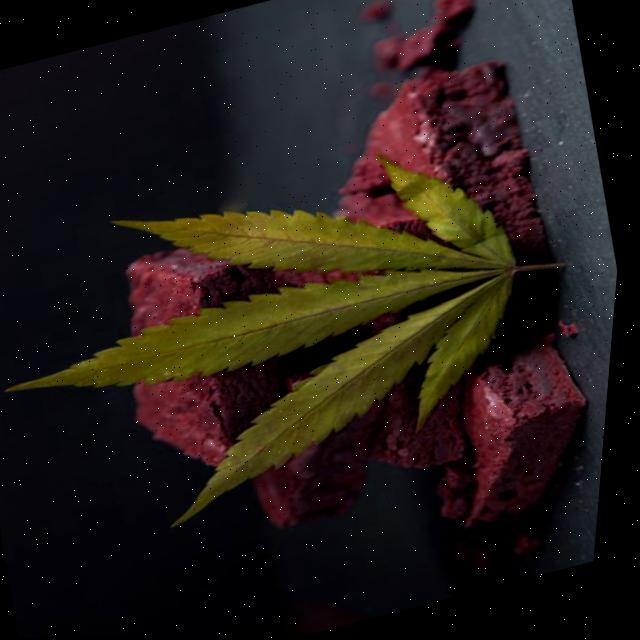cannabis: (4, 156, 572, 521)
